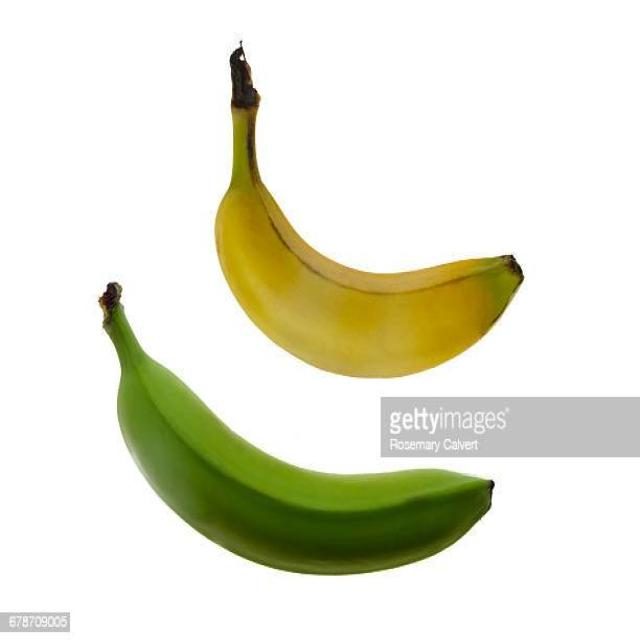non_orange: (97, 281, 494, 578), (212, 40, 521, 378)
